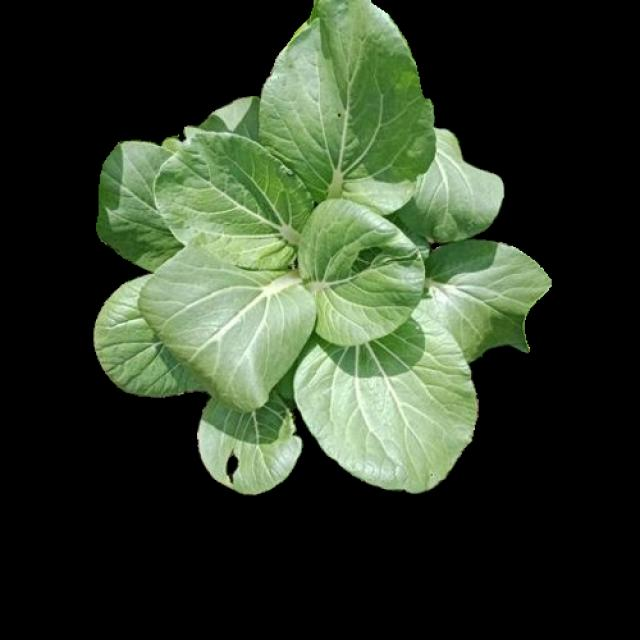mature: (100, 1, 535, 489)
unhealthy: (258, 1, 438, 212), (300, 204, 421, 346)
